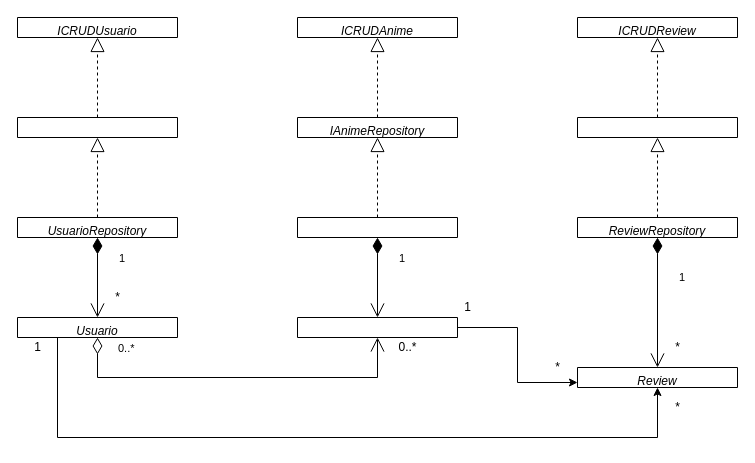
Image size: 755x463. Some labels were removed from this diagram. Each missing label, with the centre of its shape:
"Anime" goes at [377,327].
"AnimeRepository" goes at [377,227].
"IReviewRepository" goes at [657,127].
"IUsuarioRepository" goes at [97,127].
